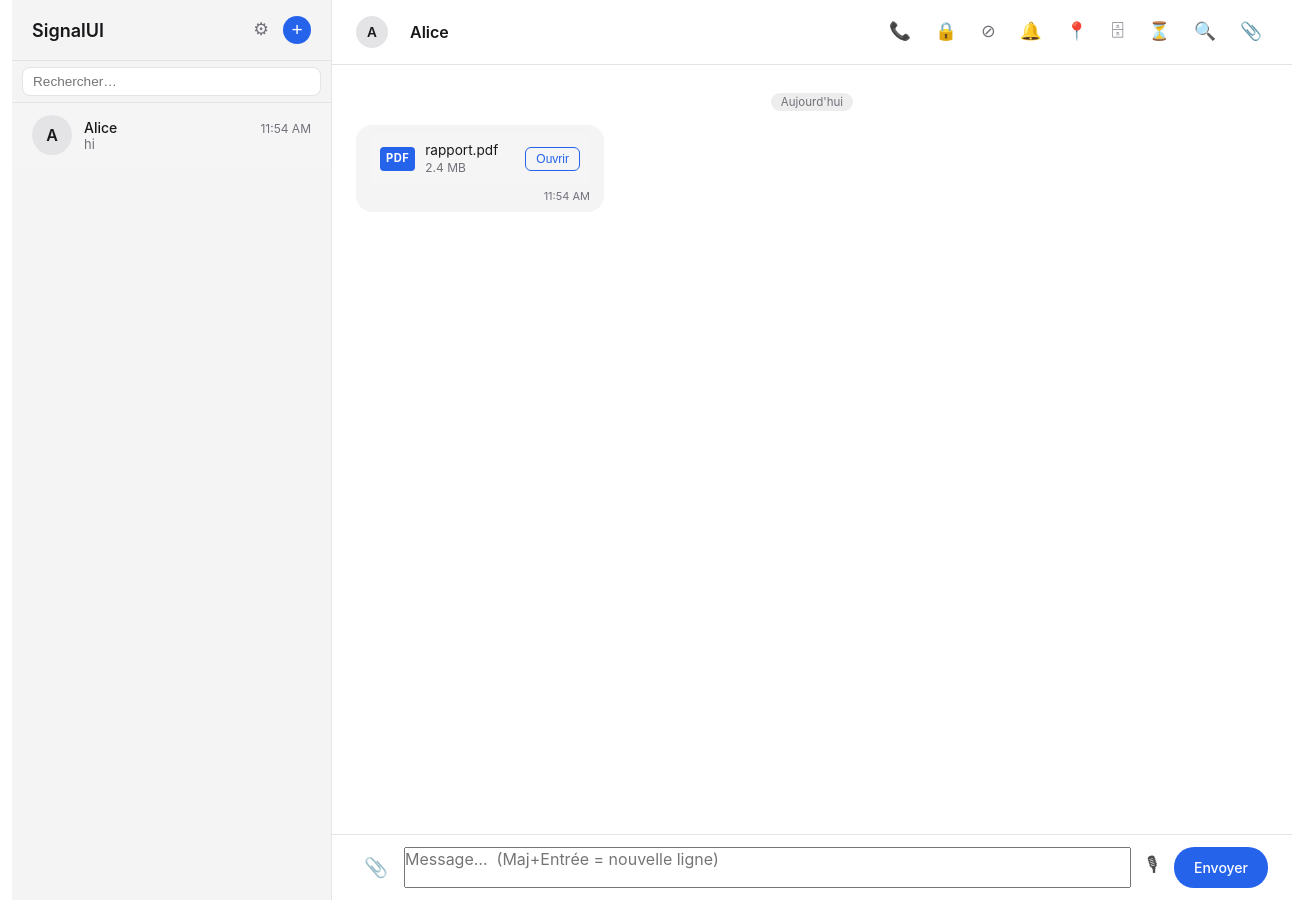
ChatLayout disappearing + view-once › gates view-once media behind a tap-to-view button
Click the button "A Alice 11:54 AM hi" at coordinates (52, 135), box top-left (12, 103), bottom-right (331, 167)
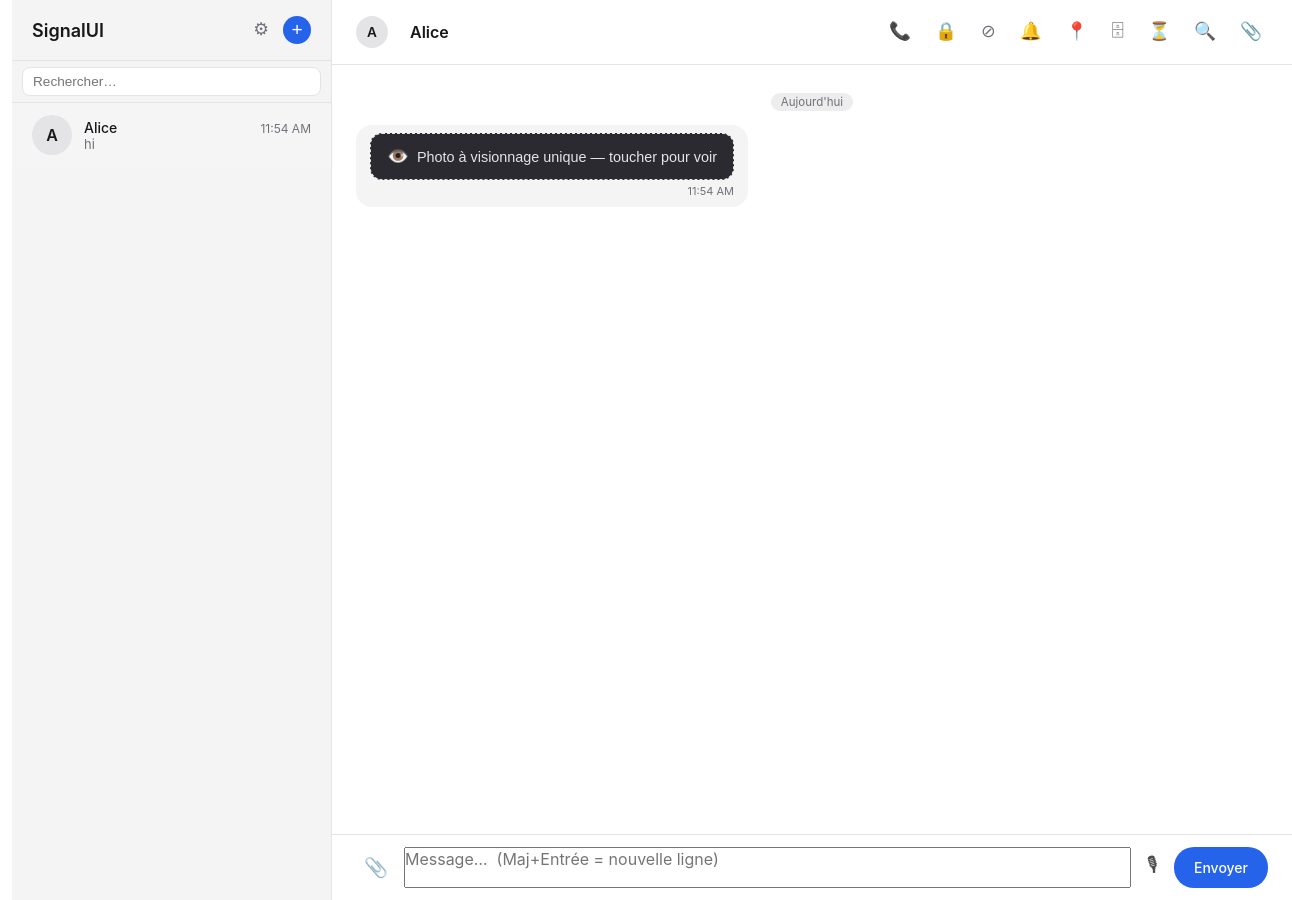
Now the text "Photo à visionnage unique — toucher pour voir" is shown, box top-left (417, 148), bottom-right (717, 164)
